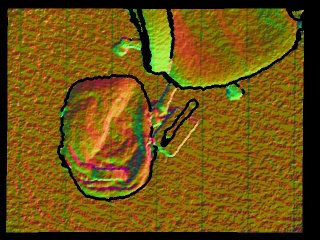station: (154, 100, 200, 158)
